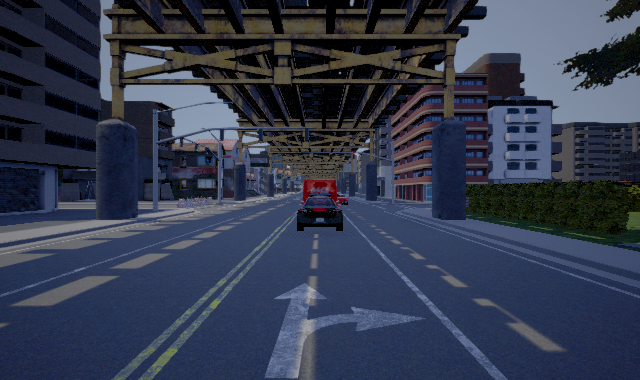traffic_light: (353, 152, 355, 159), (330, 152, 332, 159)
vehicle: (297, 195, 345, 231), (298, 179, 341, 217)
